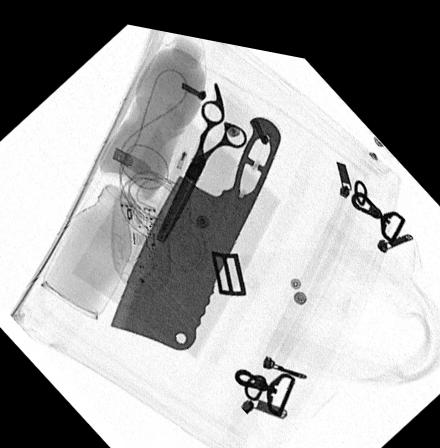Knife: (110, 106, 281, 341)
Scissors: (156, 71, 248, 237)
